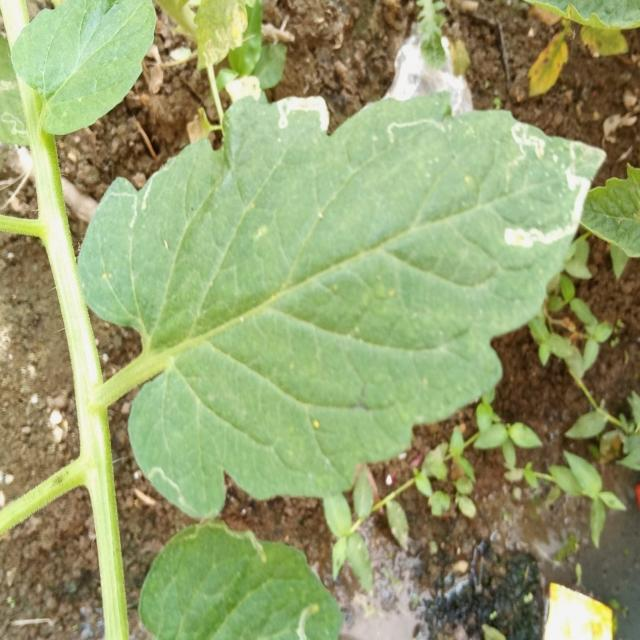Tuta absoluta: (499, 165, 607, 271), (272, 93, 330, 131), (505, 117, 551, 164), (385, 112, 444, 143)
